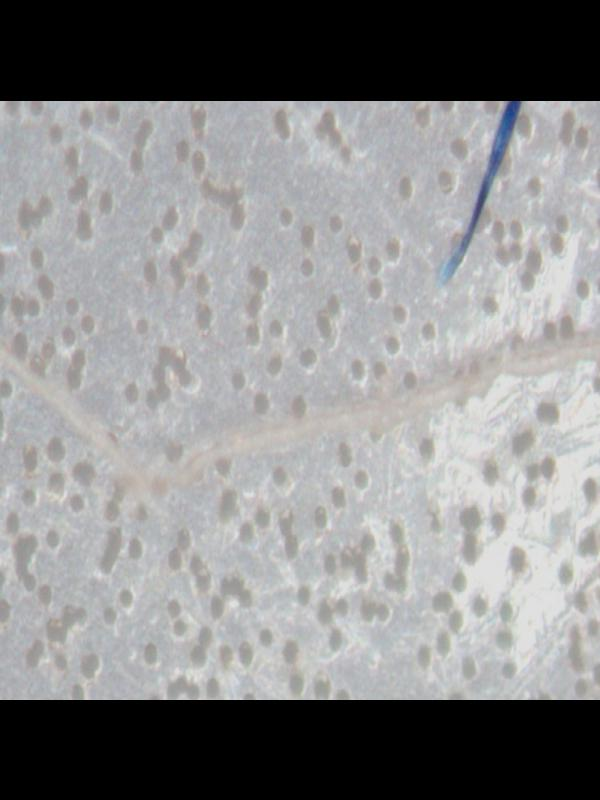microplastic: (0, 103, 600, 699), (437, 101, 526, 288)
